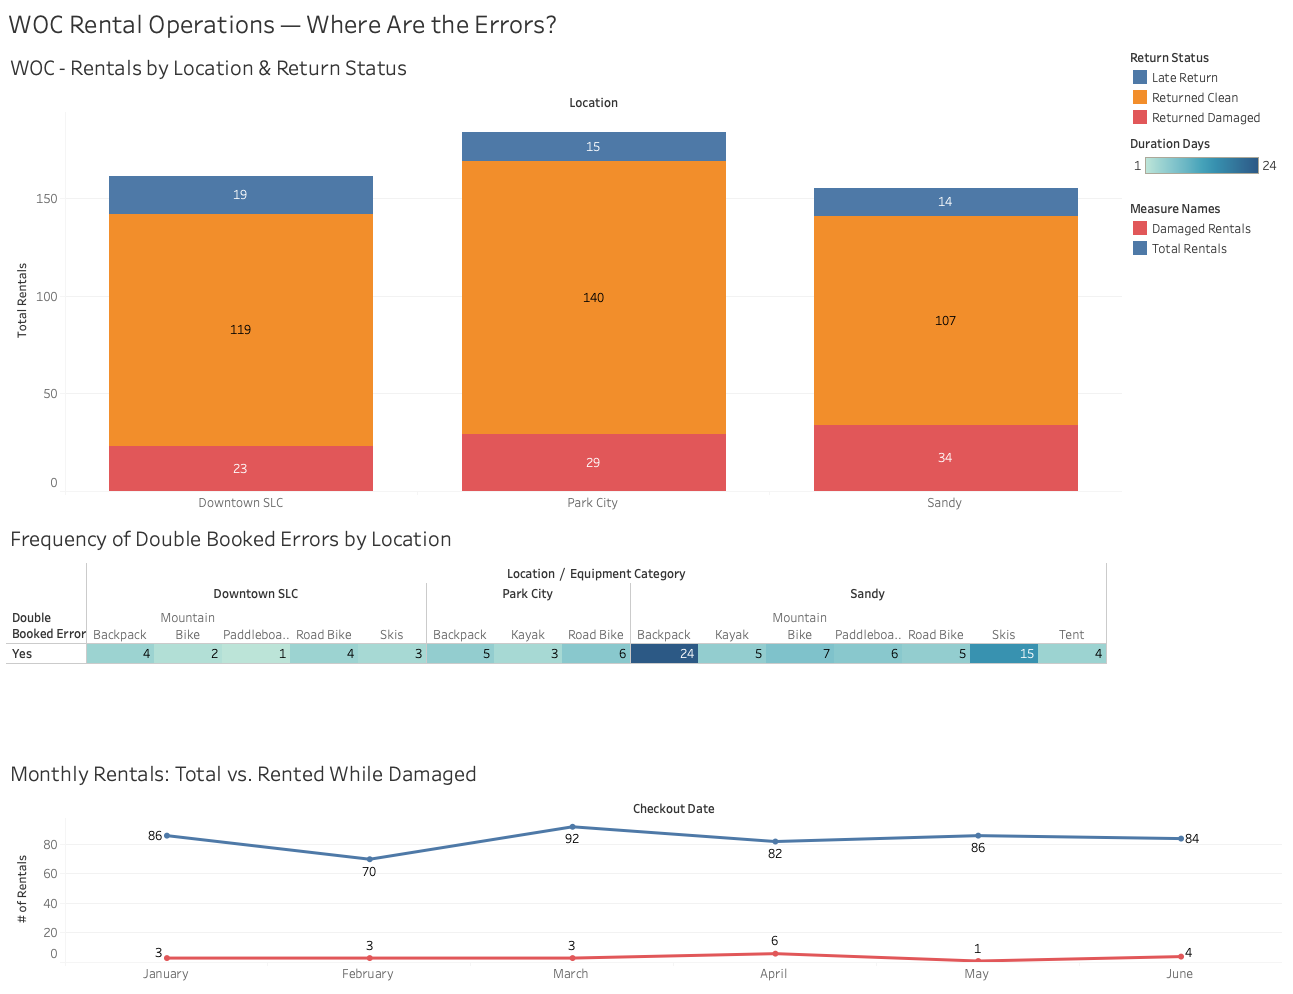

The dashboard page shown, as its layout file describes it:
{"tool":"tableau","page":{"name":"WOC Rental Operations — Where Are the Errors?","canvas":[1300,1000],"ordinal":0},"visuals":[{"type":"title","box":[8,8,1284,42]},{"type":"worksheet","title":"WOC - Rentals by Location & Return Status","mark":"Automatic","rows":["woc!track!a!rentals_9CBB3B4E3923416F97184F3D3216EFC9"],"cols":["Location"],"box":[8,50,1124,471]},{"type":"legend","title":"WOC - Rentals by Location & Return Status","param":"[federated.0moilrv12ioqqd1ck6b5g1snvl7m].[none:Return_Status:nk]","box":[1132,50,160,86]},{"type":"legend","title":"Frequency of Double Booked Errors by Location","param":"[federated.0moilrv12ioqqd1ck6b5g1snvl7m].[sum:Duration_Days:qk]","box":[1132,136,160,65]},{"type":"legend","title":"Monthly Rentals: Total vs. Rented While Damaged","param":"[federated.0moilrv12ioqqd1ck6b5g1snvl7m].[:Measure Names]","box":[1132,201,160,66]},{"type":"worksheet","title":"Frequency of Double Booked Errors by Location","mark":"Square","rows":["Double_Booked_Error"],"cols":["Location","Equipment_Category"],"box":[8,521,1284,235.5]},{"type":"worksheet","title":"Monthly Rentals: Total vs. Rented While Damaged","mark":"Line","cols":["Checkout_Date"],"box":[8,756.5,1284,235.5]}]}

Visuals, with their boxes in screenshot pixels (x1, y1, x2, y2), scaled from the page's 1300x1000 canvas onto the 1293x994 screenshot:
title: BBox(8, 8, 1285, 50)
"WOC - Rentals by Location & Return Status" worksheet: BBox(8, 50, 1126, 518)
"WOC - Rentals by Location & Return Status" legend: BBox(1126, 50, 1285, 135)
"Frequency of Double Booked Errors by Location" legend: BBox(1126, 135, 1285, 200)
"Monthly Rentals: Total vs. Rented While Damaged" legend: BBox(1126, 200, 1285, 265)
"Frequency of Double Booked Errors by Location" worksheet (Square marks): BBox(8, 518, 1285, 752)
"Monthly Rentals: Total vs. Rented While Damaged" worksheet (Line marks): BBox(8, 752, 1285, 986)
